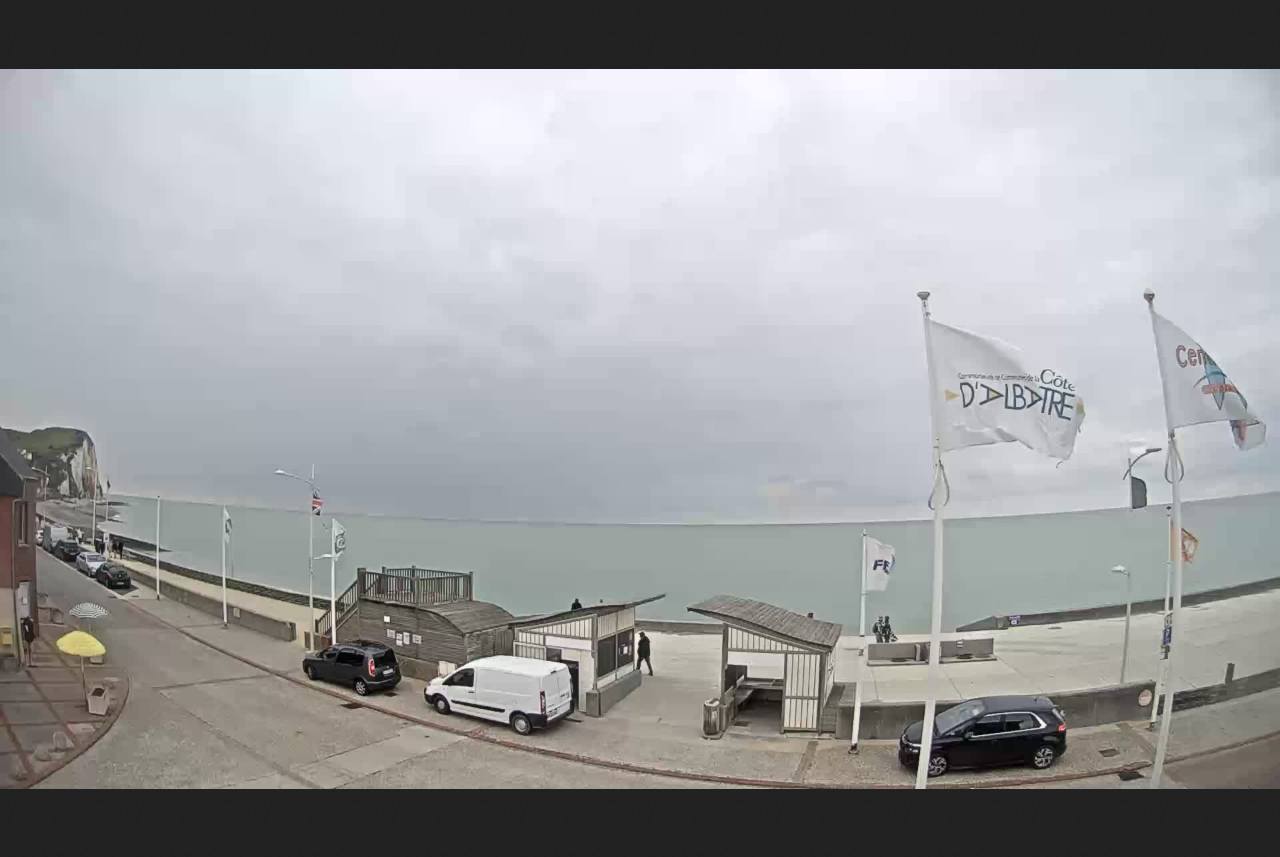maybe: (218, 507, 233, 540)
yes: (926, 313, 1084, 463), (1147, 303, 1268, 447), (858, 533, 899, 592)
